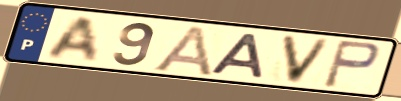9: (112, 21, 155, 67)
A: (148, 24, 215, 78), (207, 31, 266, 80), (43, 15, 100, 64)
P: (320, 38, 383, 91)
V: (279, 33, 335, 87)
